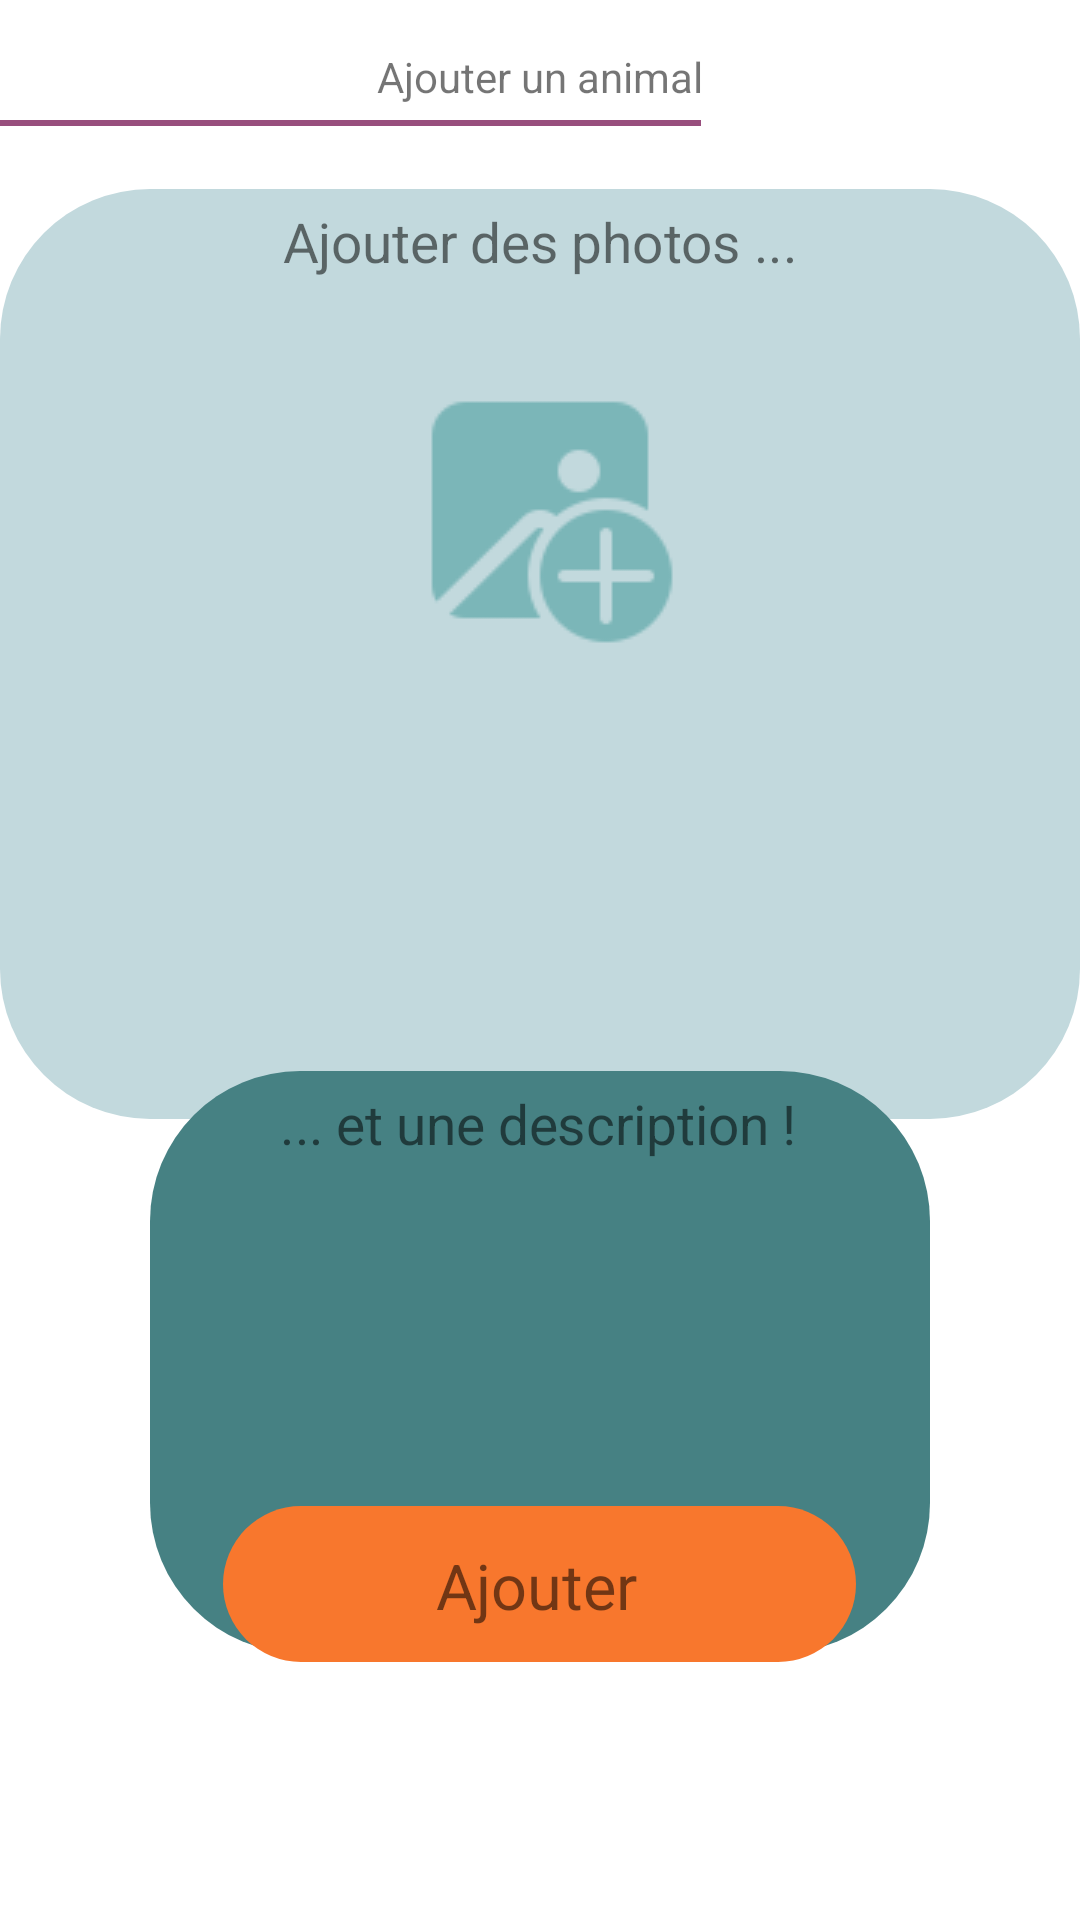

Icons on this 1080 x 1920 Android screen, each with its box as (x1, y1, x2, y2):
addphoto: (432, 402, 672, 642)
